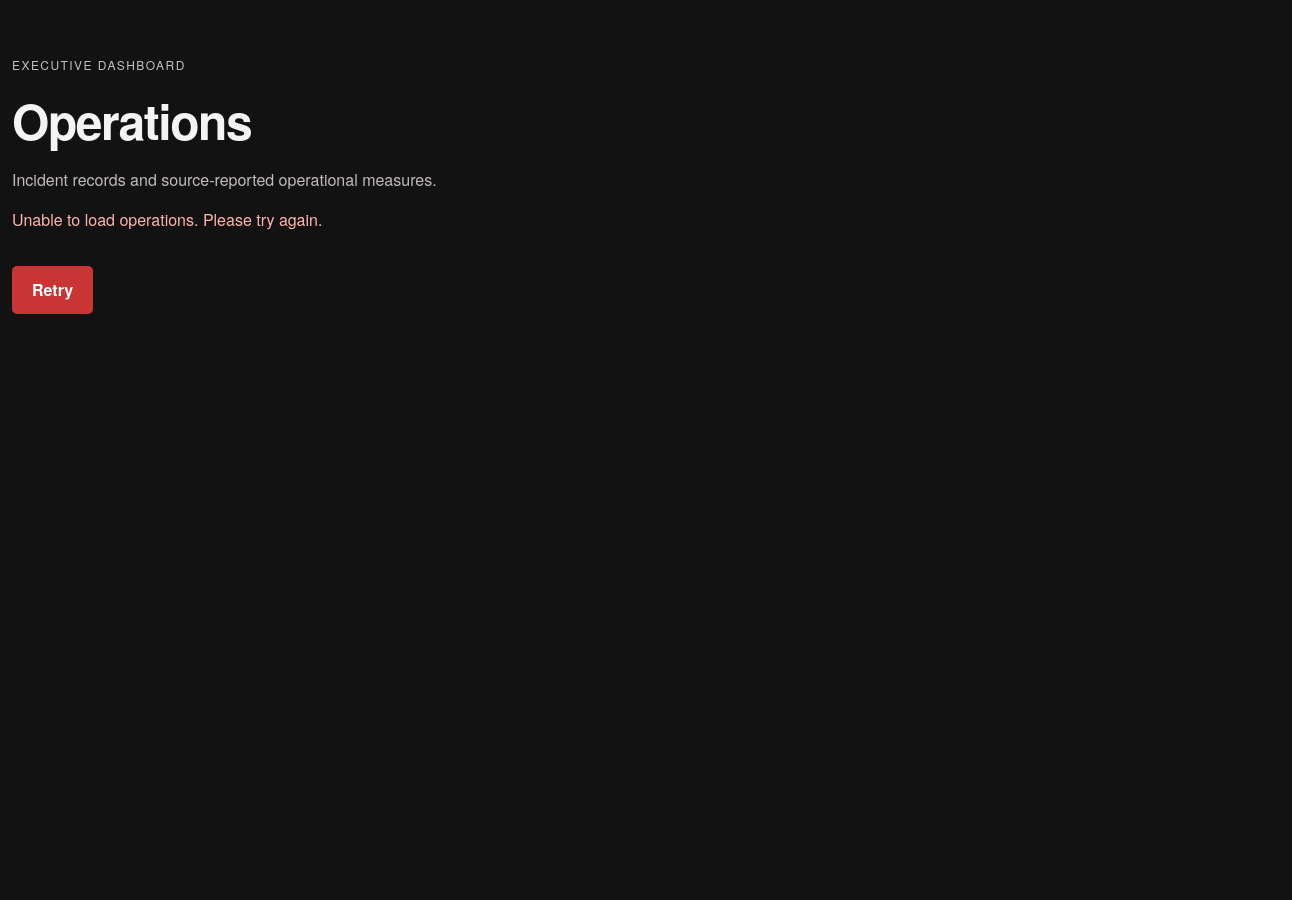
it: Operations › reports either request failing and retries
Expected: the message shows "Unable to load", [12,208,322,231]
Click the button "Retry" at {"x": 53, "y": 290}, box [12,266,93,314]
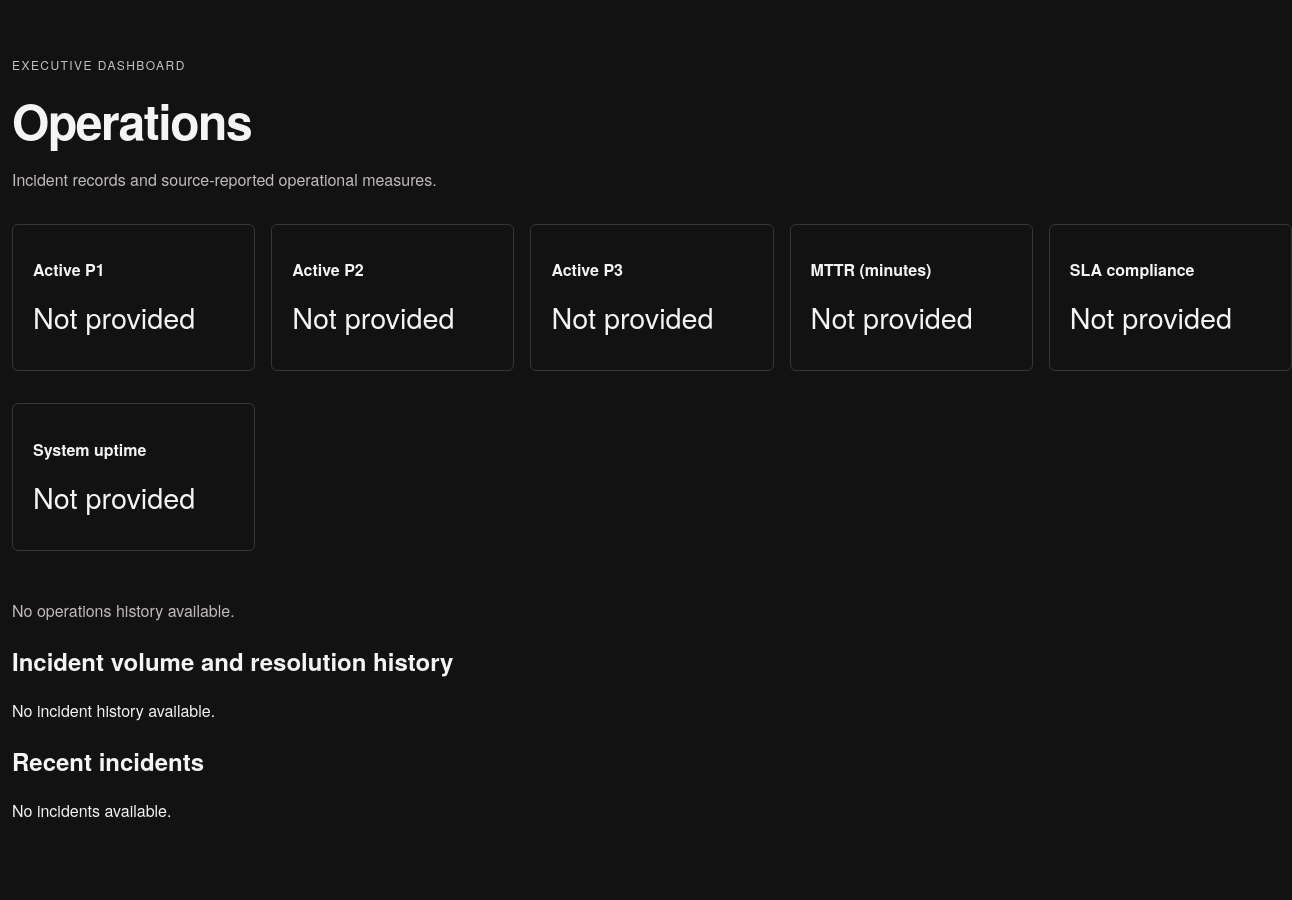
Expected: the text "No incidents available." is shown, [12,799,171,822]
